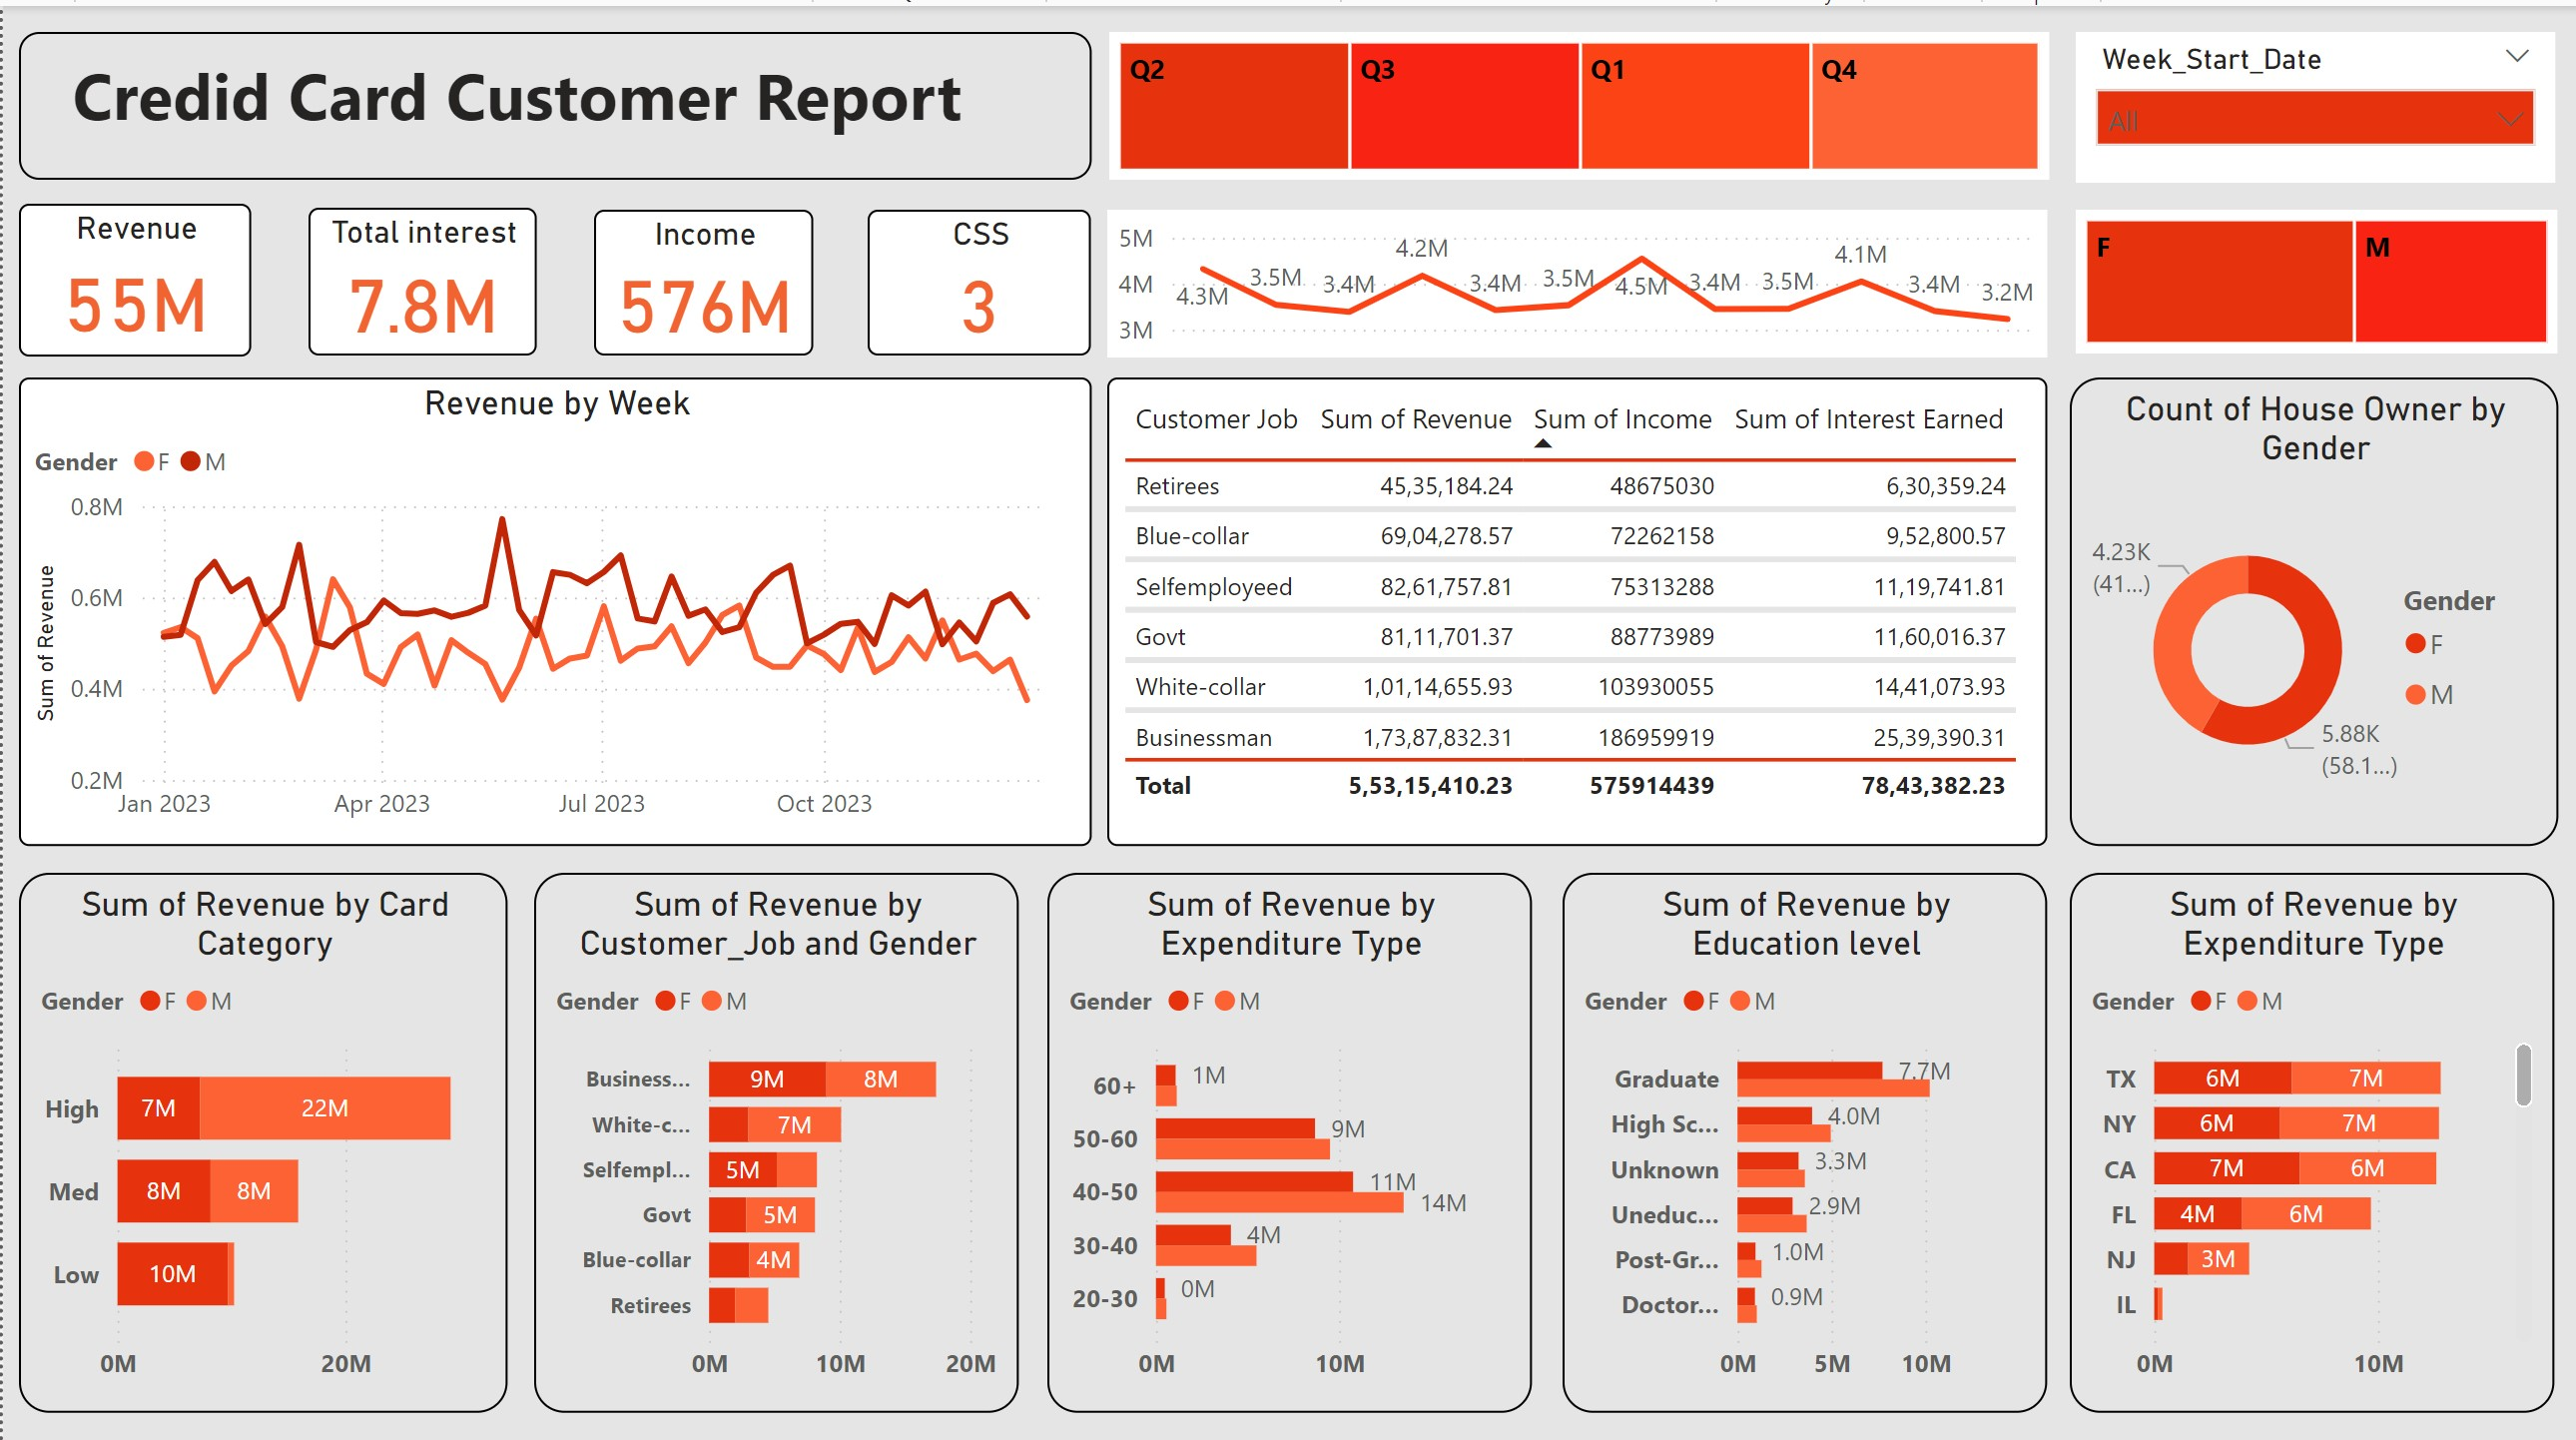

Layout of this report page (visuals, bound fields, positions):
{"tool":"powerbi","page":{"name":"Customer","canvas":[1280,720],"ordinal":1},"visuals":[{"type":"textbox","box":[7.7,13.2,533.3,73.7],"z":0},{"type":"slicer","fields":{"Values":["credit_card.Week_Start_Date"]},"box":[1030.4,13.2,238.6,74.8],"z":1000},{"type":"treemap","fields":{"Group":["credit_card.Qtr"],"Values":["CountNonNull(credit_card.Client_Num)"]},"box":[549.8,13.2,467.4,73.7],"z":2000},{"type":"treemap","fields":{"Values":["CountNonNull(credit_card.Client_Num)"],"Group":["customer.Gender"]},"box":[1030.4,101.2,239.7,71.5],"z":3000},{"type":"barChart","title":"Sum of Revenue by Card Category","fields":{"Y":["Sum(credit_card.Revenue)"],"Category":["customer.Incomegroup"],"Series":["customer.Gender"]},"box":[7.7,431.1,243,268.3],"z":4000},{"type":"card","title":"Revenue","fields":{"Values":["Sum(credit_card.Revenue)"]},"box":[7.7,97.9,115.5,75.9],"z":5000},{"type":"card","title":"Total interest","fields":{"Values":["Sum(credit_card.Interest_Earned)"]},"box":[151.8,100.1,113.3,73.7],"z":6000},{"type":"card","title":"CSS","fields":{"Values":["Avg(customer.Cust_Satisfaction_Score)"]},"box":[430,101.2,111.1,72.6],"z":7000},{"type":"card","title":"Income","fields":{"Values":["Sum(customer.Income)"]},"box":[293.6,101.2,108.9,72.6],"z":8000},{"type":"lineChart","title":"Revenue by Week","fields":{"Y":["Sum(credit_card.Revenue)"],"Series":["customer.Gender"],"Category":["credit_card.Week_Start_Date.Variation.Date Hierarchy.Year","credit_card.Week_Start_Date.Variation.Date Hierarchy.Month","credit_card.Week_Start_Date.Variation.Date Hierarchy.Day"]},"box":[7.7,184.7,533.3,233.1],"z":9000},{"type":"clusteredBarChart","title":"Sum of Revenue by Expenditure Type","fields":{"Category":["customer.Agegroup"],"Y":["Sum(credit_card.Revenue)"],"Series":["customer.Gender"]},"box":[519,431.1,240.8,268.3],"z":10000},{"type":"barChart","fields":{"Category":["customer.Customer_Job","credit_card.Use Chip"],"Y":["Sum(credit_card.Revenue)"],"Series":["customer.Gender"]},"box":[263.9,431.1,240.8,268.3],"z":11000},{"type":"clusteredBarChart","title":"Sum of Revenue by Education level","fields":{"Category":["customer.Education_Level"],"Y":["Sum(credit_card.Total_Trans_Amt)"],"Series":["customer.Gender"]},"box":[775.3,431.1,240.8,268.3],"z":12000},{"type":"barChart","title":"Sum of Revenue by Expenditure Type","fields":{"Y":["Sum(credit_card.Revenue)"],"Category":["customer.state_cd"],"Series":["customer.Gender"]},"box":[1028.2,431.1,240.8,268.3],"z":13000},{"type":"tableEx","fields":{"Values":["customer.Customer_Job","Sum(credit_card.Revenue)","Sum(customer.Income)","Sum(credit_card.Interest_Earned)"]},"box":[548.7,184.7,467.4,233.1],"z":14000},{"type":"donutChart","title":"Count of House Owner by Gender","fields":{"Category":["customer.Gender"],"Y":["CountNonNull(customer.House_Owner)"]},"box":[1028.2,184.7,243,233.1],"z":14001},{"type":"lineChart","fields":{"Category":["credit_card.Week_Start_Date.Variation.Date Hierarchy.Month"],"Y":["Sum(credit_card.Total_Trans_Amt)"]},"box":[548.7,101.2,467.4,73.7],"z":14003}]}

Visuals, with their boxes in screenshot pixels (x1, y1, x2, y2), scaled from the page's 1280x720 canvas onto the 2576x1440 screenshot:
textbox: [16, 26, 1088, 174]
slicer - credit_card.Week_Start_Date: [2074, 26, 2554, 176]
treemap - credit_card.Qtr x CountNonNull(credit_card.Client_Num): [1106, 26, 2047, 174]
treemap - CountNonNull(credit_card.Client_Num) x customer.Gender: [2074, 203, 2556, 346]
"Sum of Revenue by Card Category" barChart: [16, 862, 504, 1399]
"Revenue" card: [16, 196, 248, 348]
"Total interest" card: [306, 200, 533, 348]
"CSS" card: [866, 203, 1089, 348]
"Income" card: [591, 203, 810, 348]
"Revenue by Week" lineChart: [16, 369, 1088, 836]
"Sum of Revenue by Expenditure Type" clusteredBarChart: [1044, 862, 1529, 1399]
barChart - customer.Customer_Job x credit_card.Use Chip: [531, 862, 1015, 1399]
"Sum of Revenue by Education level" clusteredBarChart: [1561, 862, 2045, 1399]
"Sum of Revenue by Expenditure Type" barChart: [2069, 862, 2554, 1399]
tableEx - customer.Customer_Job x Sum(credit_card.Revenue): [1104, 369, 2045, 836]
"Count of House Owner by Gender" donutChart: [2069, 369, 2558, 836]
lineChart - credit_card.Week_Start_Date.Variation.Date Hierarchy.Month x Sum(credit_card.Total_Trans_Amt): [1104, 203, 2045, 350]
